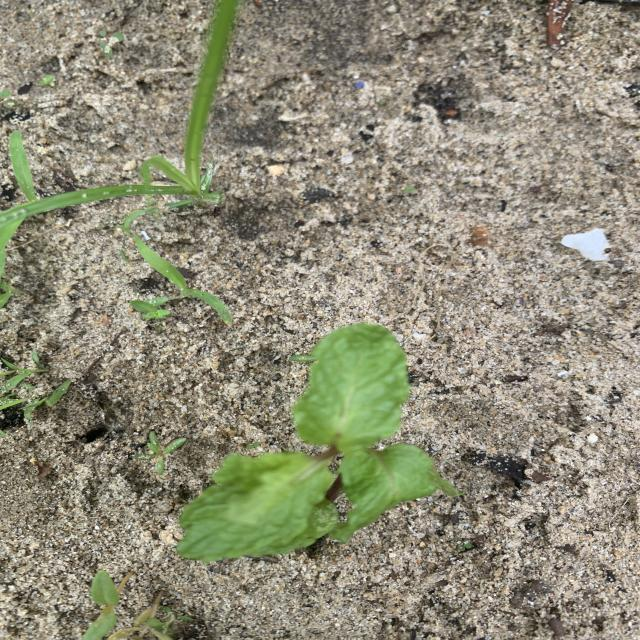crop: (178, 324, 462, 559)
weed: (0, 0, 239, 270), (133, 235, 233, 323), (0, 355, 71, 422), (82, 571, 134, 640), (108, 592, 172, 640), (133, 433, 183, 474), (131, 300, 170, 319), (96, 29, 124, 55)
